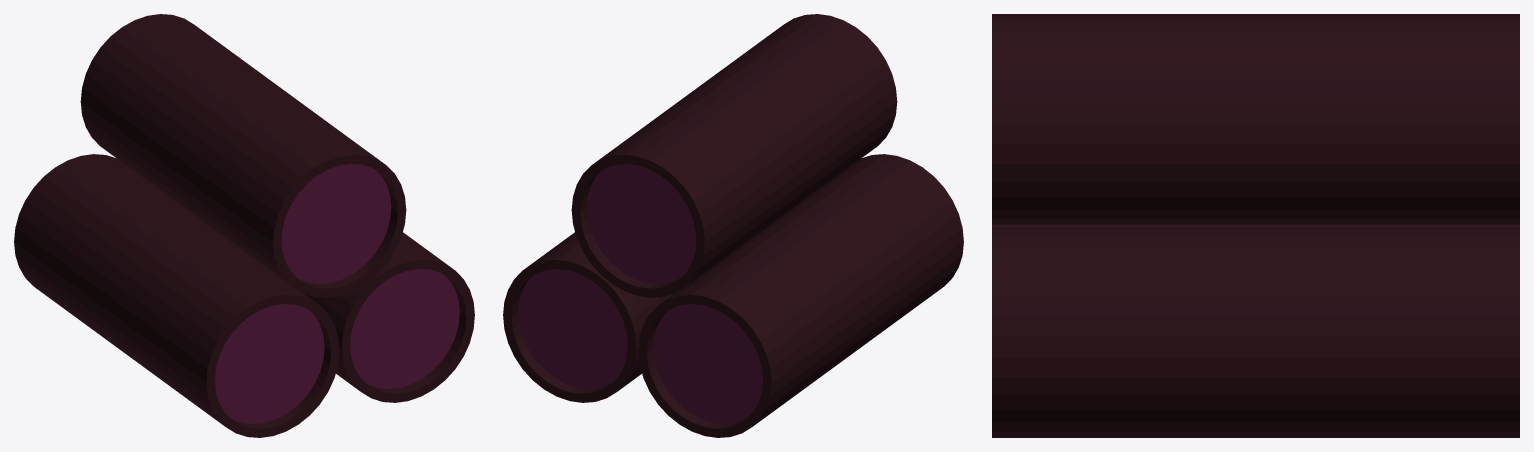
File: DarkWood.fbx
3 renders of one model, left to right at view 1: azimuth 30°, elevation 25°; view 2: azimuth 150°, elevation 25°; view 3: azimuth 270°, elevation 25°, orthographic. The views are drawn at different scales.
Visible parts, largest first — view 1: Cylinder.016; view 2: Cylinder.016; view 3: Cylinder.016.
Boxes of the visible parts, <box> form: Cylinder.016: <box>14,14,474,437</box>; Cylinder.016: <box>503,14,963,437</box>; Cylinder.016: <box>992,14,1519,437</box>.
Size of the model in its own units: 27.05 by 25.33 by 33.55.
